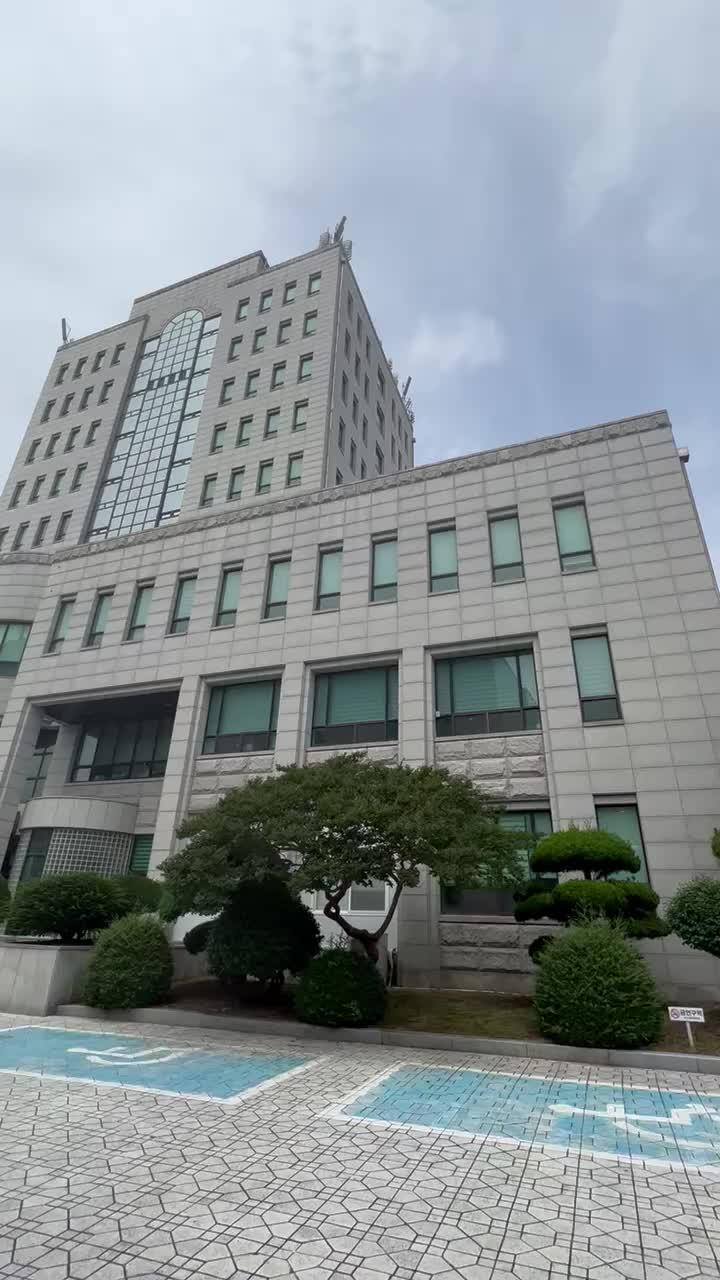building: (22, 248, 720, 782)
